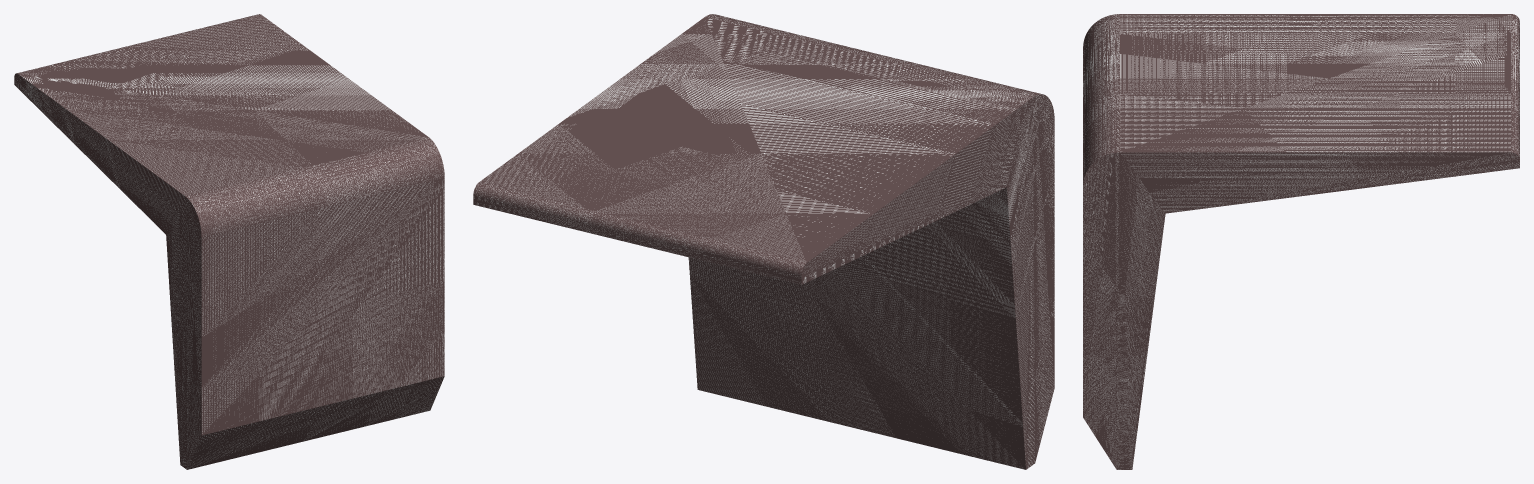
The model's file is original-3.obj.
The picture shows the model from 3 angles, left to right: view 1: azimuth 30°, elevation 25°; view 2: azimuth 150°, elevation 25°; view 3: azimuth 270°, elevation 25°; orthographic projection. The views are drawn at different scales.
Parts seen in each view (by area): view 1: Group3/mesh4/mesh4-geometry#mesh4-geometry; view 2: Group3/mesh4/mesh4-geometry#mesh4-geometry; view 3: Group3/mesh4/mesh4-geometry#mesh4-geometry.
Part boxes in pixels (x1=…): Group3/mesh4/mesh4-geometry#mesh4-geometry: x1=14, y1=14, x2=444, y2=469; Group3/mesh4/mesh4-geometry#mesh4-geometry: x1=473, y1=14, x2=1054, y2=469; Group3/mesh4/mesh4-geometry#mesh4-geometry: x1=1083, y1=14, x2=1519, y2=469.
Size of the model in its own units: 0.2801 by 0.2996 by 0.3735.
